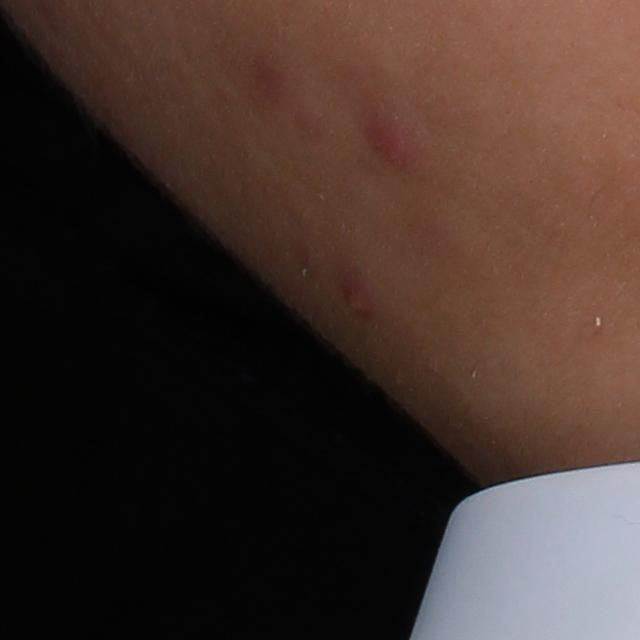papule: (361, 108, 415, 174), (339, 266, 378, 324)
